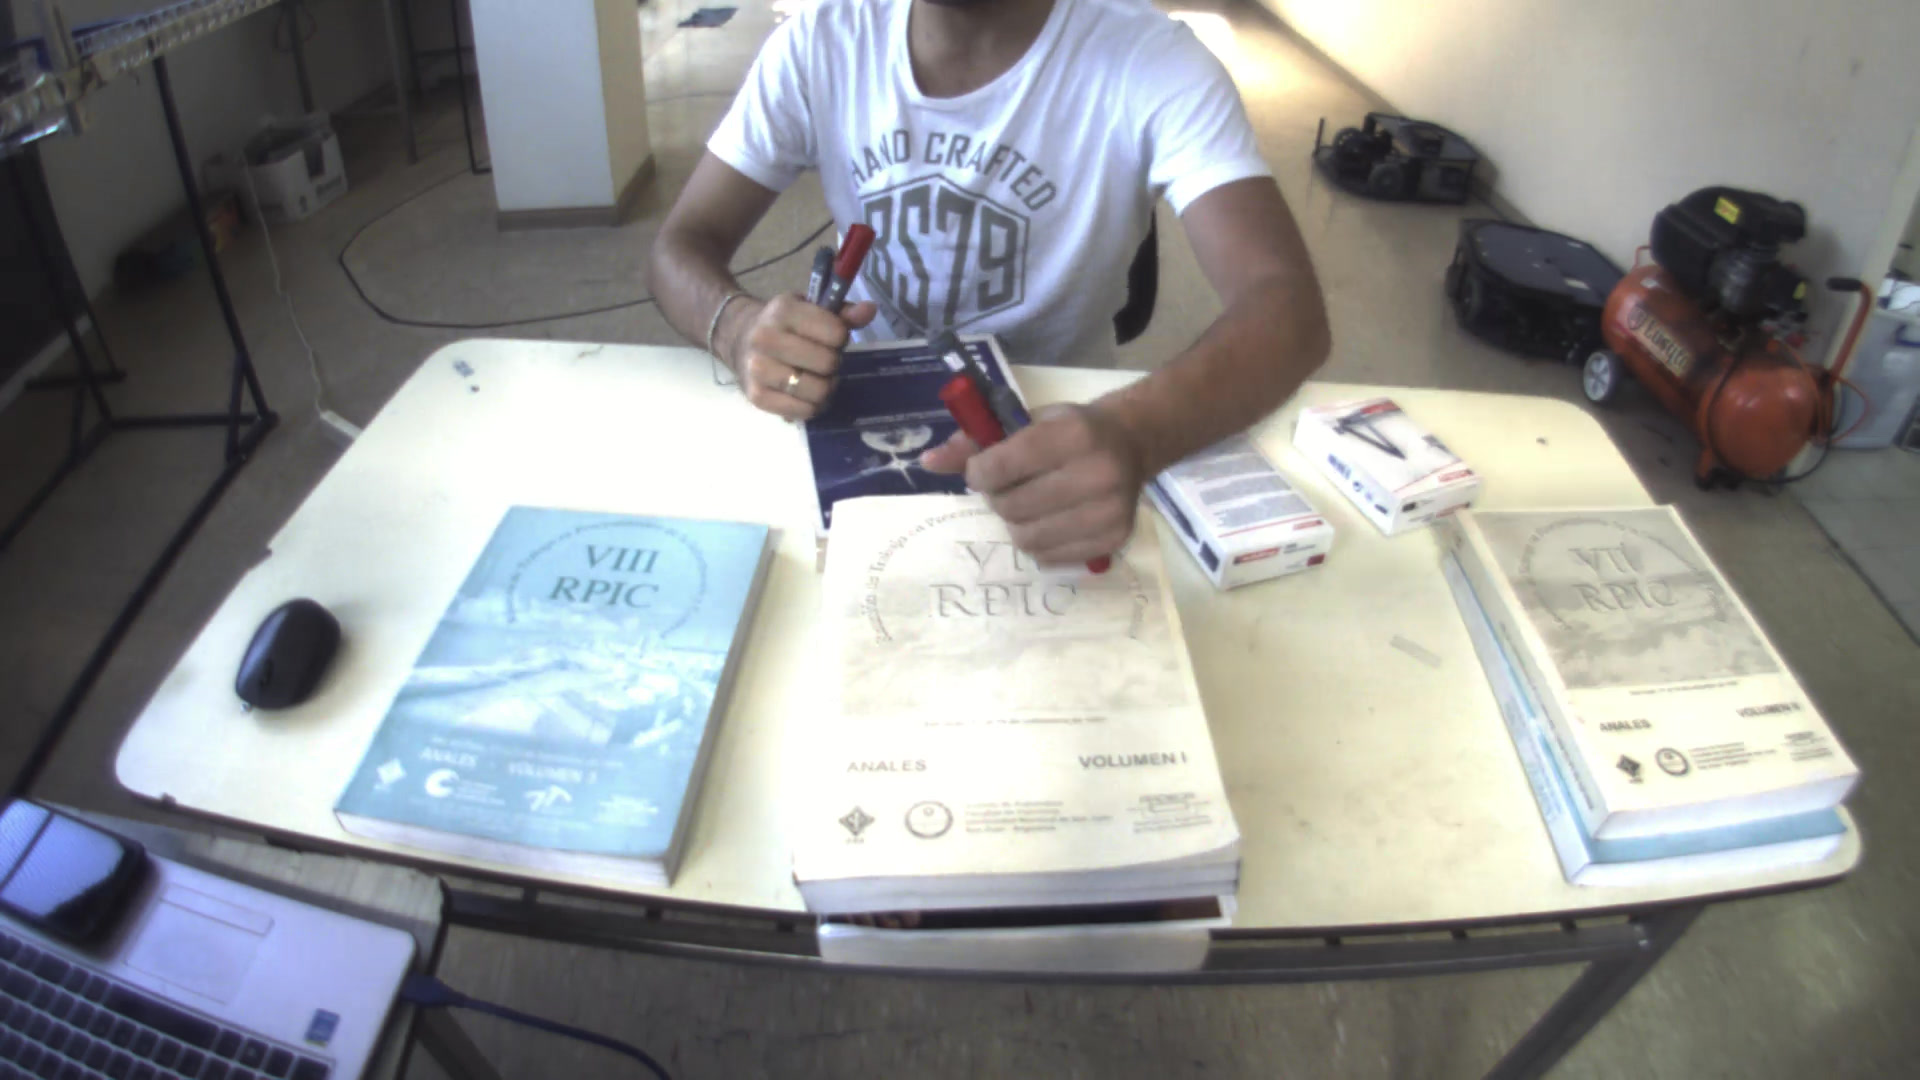hand: (951, 388, 1149, 574), (709, 270, 880, 419)
